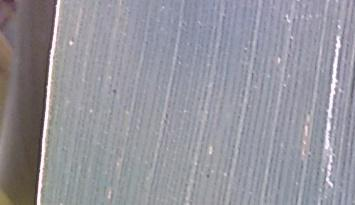tarspot: (111, 87, 118, 94), (205, 172, 211, 179)
